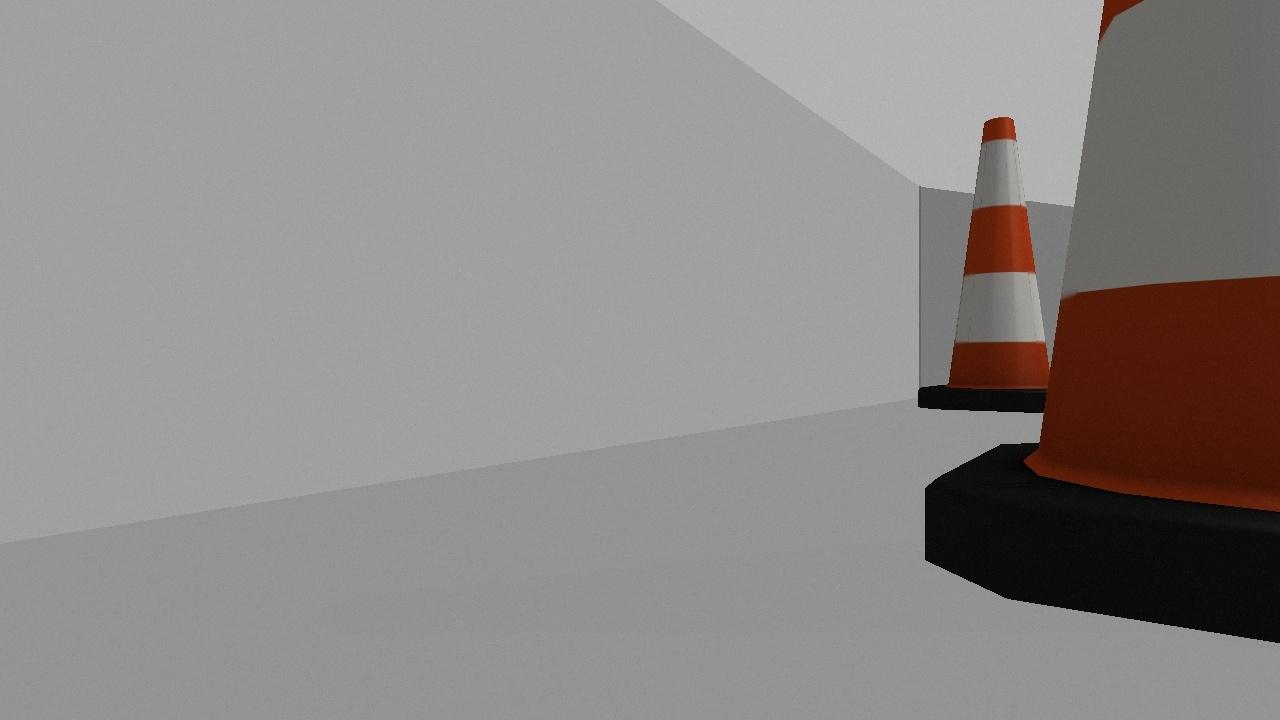cone_barrel: (923, 0, 1279, 643), (914, 112, 1076, 414)
